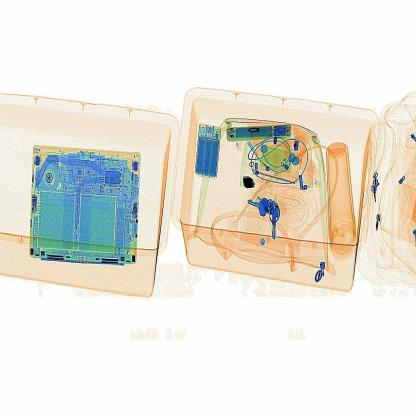scissors: (239, 170, 260, 195)
